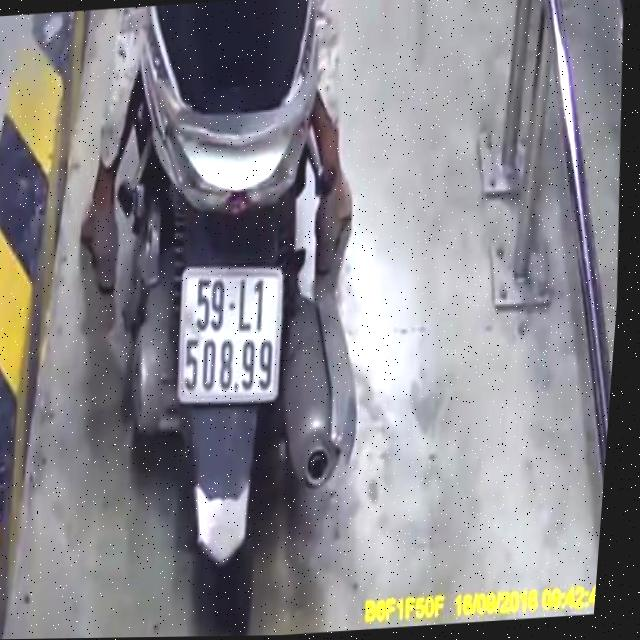motorcycle: (73, 0, 399, 637)
plate: (164, 257, 297, 412)
